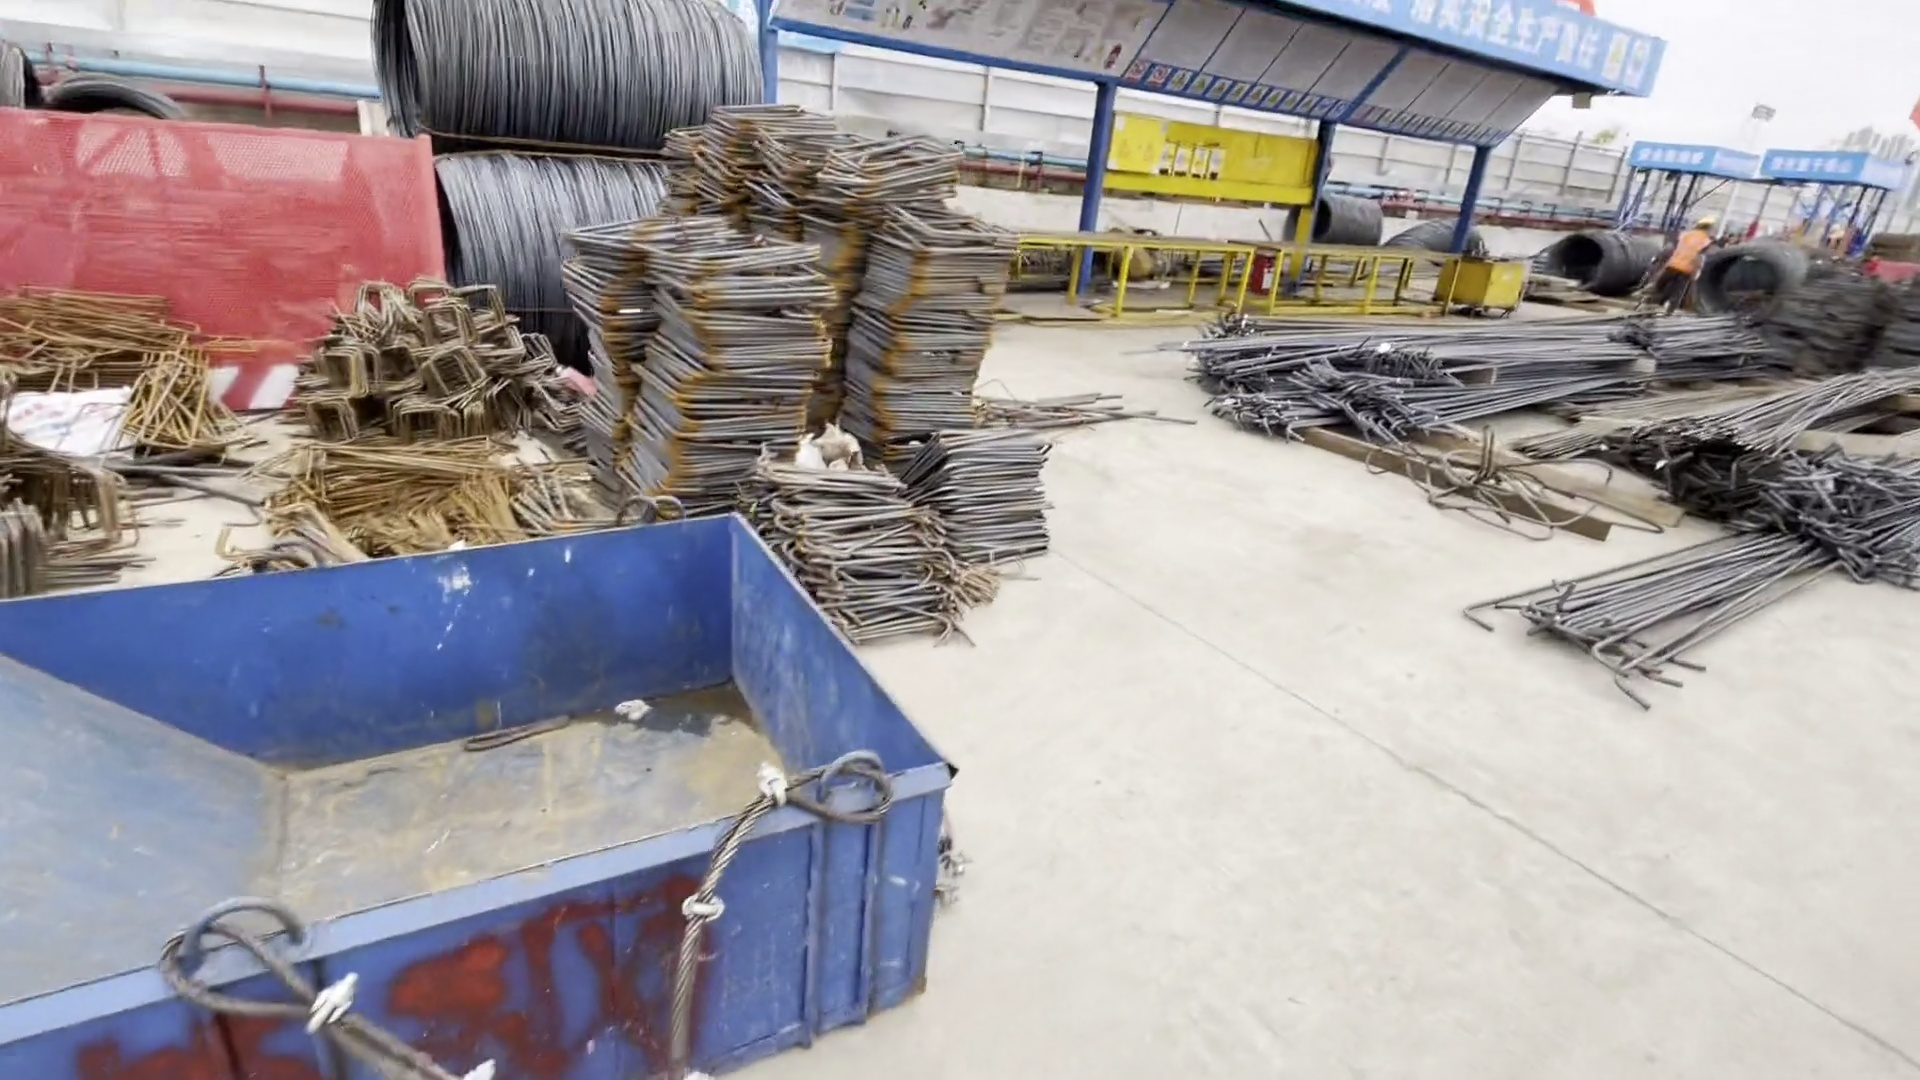ebox: (1106, 119, 1226, 183)
fence: (1, 132, 431, 411)
hopper: (4, 517, 949, 1080)
person: (1657, 210, 1703, 312)
rebar: (1538, 364, 1920, 704), (1205, 303, 1778, 443)
slogan: (1292, 1, 1660, 105)
vest: (1668, 230, 1706, 275)
